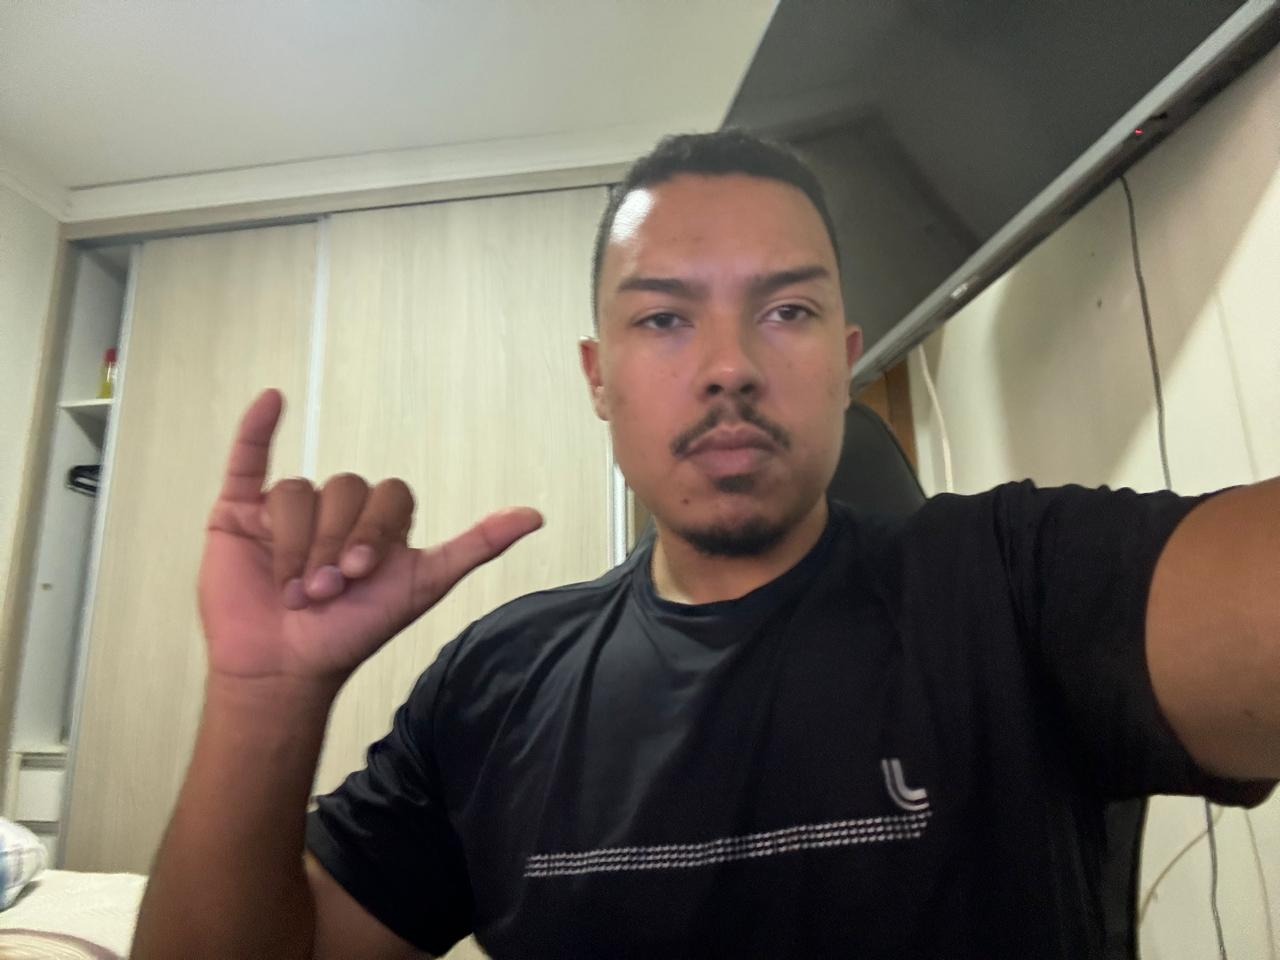y: (189, 381, 550, 702)
